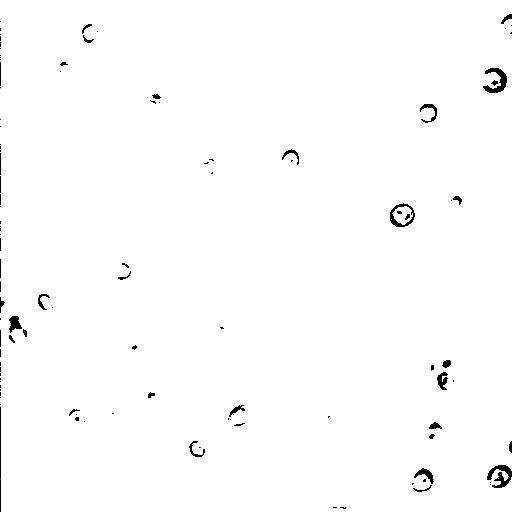micro-algae: (443, 477, 501, 511), (383, 259, 422, 299), (310, 39, 349, 78), (381, 17, 418, 57), (1, 253, 25, 312), (91, 12, 123, 47), (432, 344, 463, 375), (100, 401, 130, 431), (1, 305, 29, 335), (389, 200, 415, 230), (139, 382, 166, 410), (485, 463, 511, 489), (227, 403, 252, 429), (411, 467, 436, 493), (121, 336, 145, 359), (280, 147, 301, 173), (197, 155, 219, 179), (51, 58, 77, 78), (67, 407, 87, 433), (435, 370, 457, 393), (417, 103, 438, 123), (113, 261, 132, 281), (187, 439, 207, 458), (81, 23, 99, 44), (7, 327, 27, 345), (37, 292, 55, 311), (499, 11, 512, 36), (446, 195, 464, 210), (425, 423, 442, 438), (325, 504, 352, 512)
